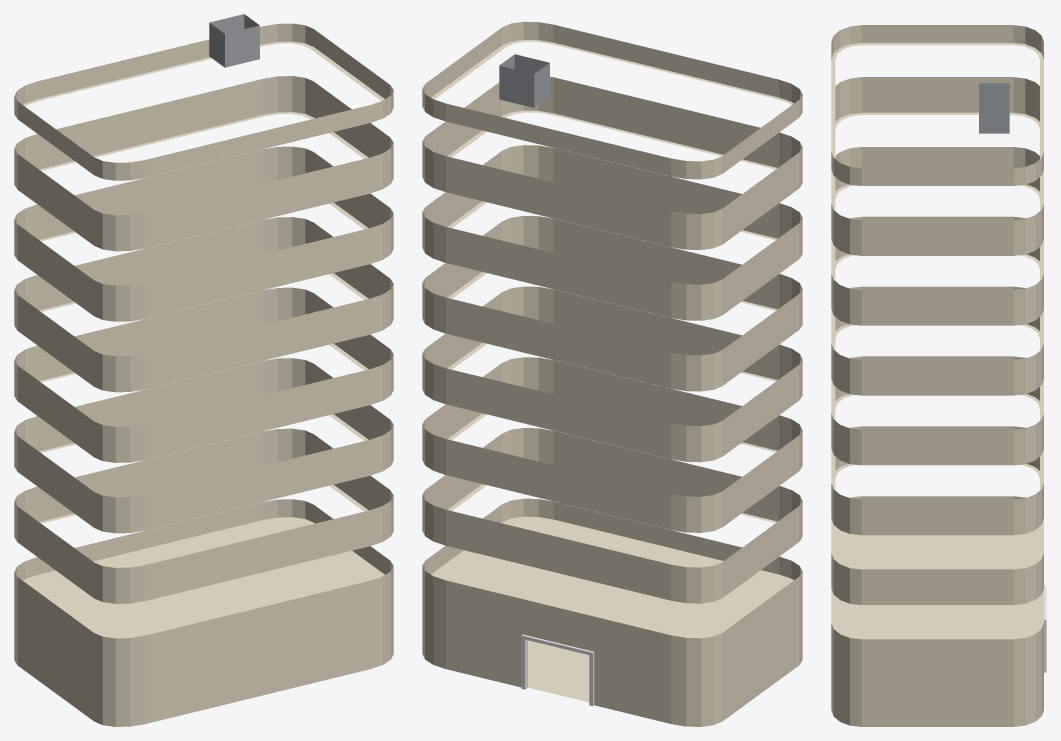
Rendered from Bld_R_high_L3_B.fbx.
3 views of the same model, side by side, from view 1: azimuth 30°, elevation 25°; view 2: azimuth 150°, elevation 25°; view 3: azimuth 270°, elevation 25° (orthographic).
Parts seen in each view (by area): view 1: Bld_R_high_L3_B_LOD0; view 2: Bld_R_high_L3_B_LOD0; view 3: Bld_R_high_L3_B_LOD0.
Part boxes in pixels (x1,y1,x2,y2): Bld_R_high_L3_B_LOD0: (14,14,393,726); Bld_R_high_L3_B_LOD0: (422,21,802,726); Bld_R_high_L3_B_LOD0: (831,25,1046,726).
Size of what is drawn, in the model's own units: 2200 by 4564 by 1400.
1 material, 1 textured.
